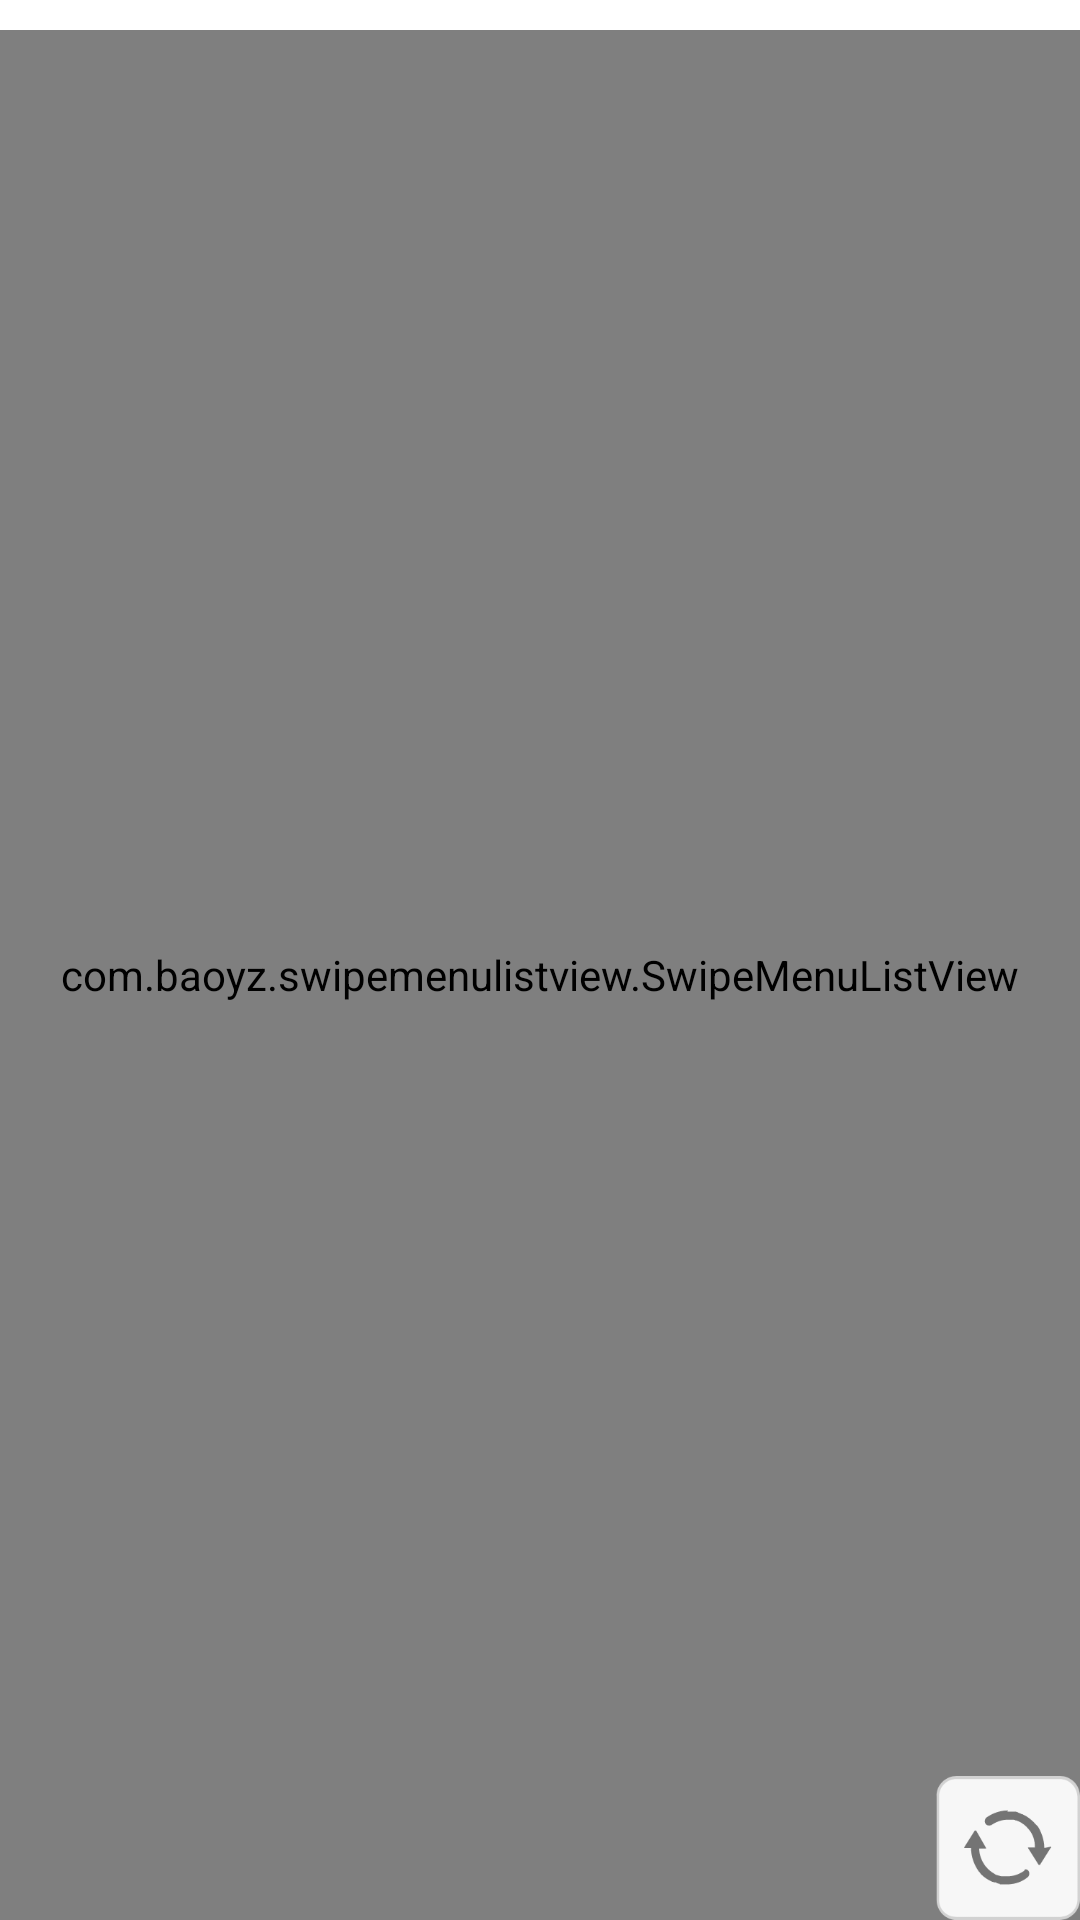

Locate icon controls on the screen. Image size 1080w x 1920h, boxes as {"x1": x1, "y1": y1, "x2": x2, "y2": y2}.
refresh: {"x1": 936, "y1": 1776, "x2": 1080, "y2": 1920}
